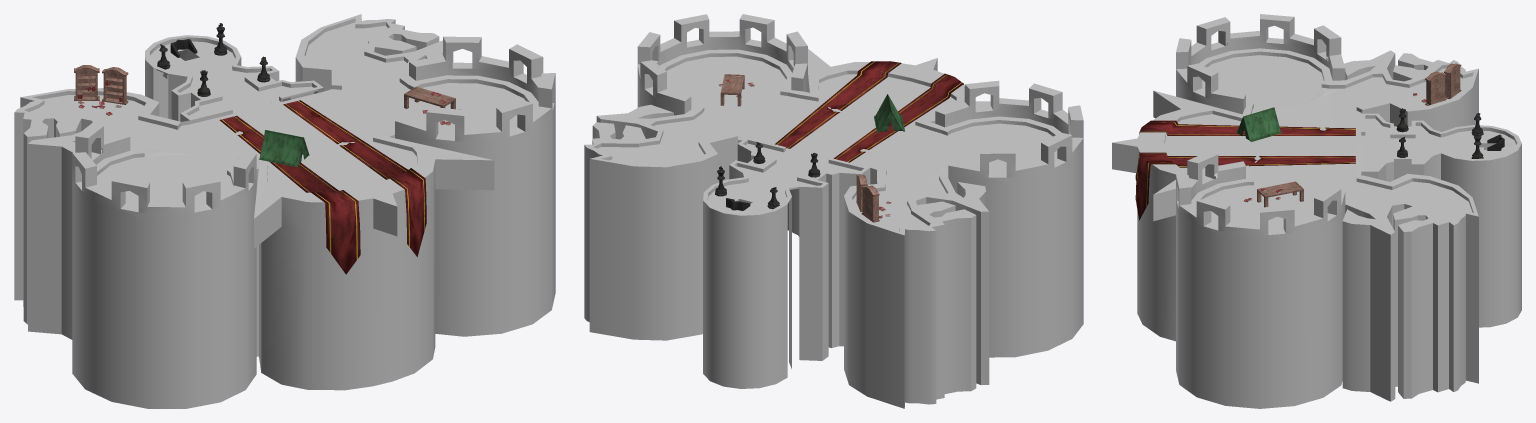
The model's file is mainlobby_ffinal.FBX.
3 views of the same model, side by side, from view 1: azimuth 30°, elevation 25°; view 2: azimuth 150°, elevation 25°; view 3: azimuth 270°, elevation 25° (orthographic). The views are drawn at different scales.
Parts seen in each view (by area): view 1: Group001, Plane004, Box005, Box008, Box004, Box006; view 2: Group001, Plane004, Box005, Box004, Box006; view 3: Group001, Plane004, Box005, Box008, Box006, Box004.
Boxes of the visible parts, x1,y1,x2,y2 form: Group001: (14, 14, 555, 408); Plane004: (219, 100, 426, 274); Box005: (259, 130, 309, 167); Box008: (102, 67, 128, 104); Box004: (74, 65, 99, 100); Box006: (404, 86, 455, 109); Group001: (584, 14, 1083, 408); Plane004: (775, 61, 963, 162); Box005: (874, 94, 905, 132); Box004: (861, 185, 879, 222); Box006: (720, 74, 744, 106); Group001: (1112, 14, 1521, 408); Plane004: (1135, 120, 1355, 220); Box005: (1235, 107, 1282, 141); Box008: (1425, 71, 1446, 105); Box006: (1257, 181, 1303, 207); Box004: (1444, 63, 1461, 98).
Bounding box in the file's own units: 90.11 × 41.49 × 78.55.
